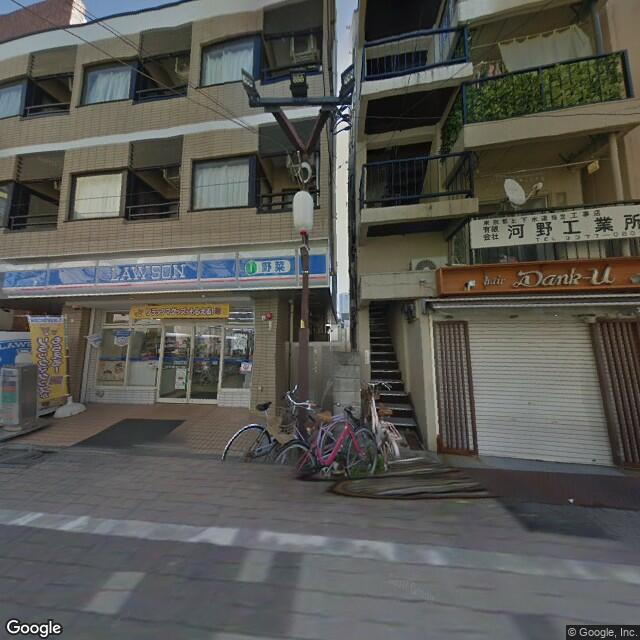lawson: (1, 240, 330, 300), (3, 336, 39, 368)
